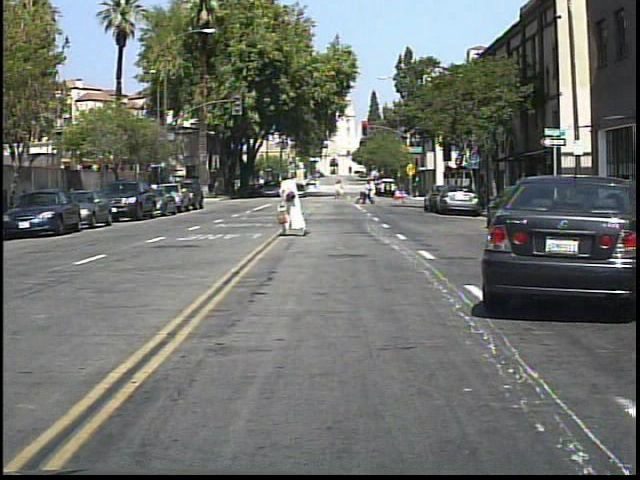person: (275, 168, 309, 239), (512, 167, 533, 226), (618, 162, 636, 230), (364, 176, 383, 208), (360, 177, 378, 207)
